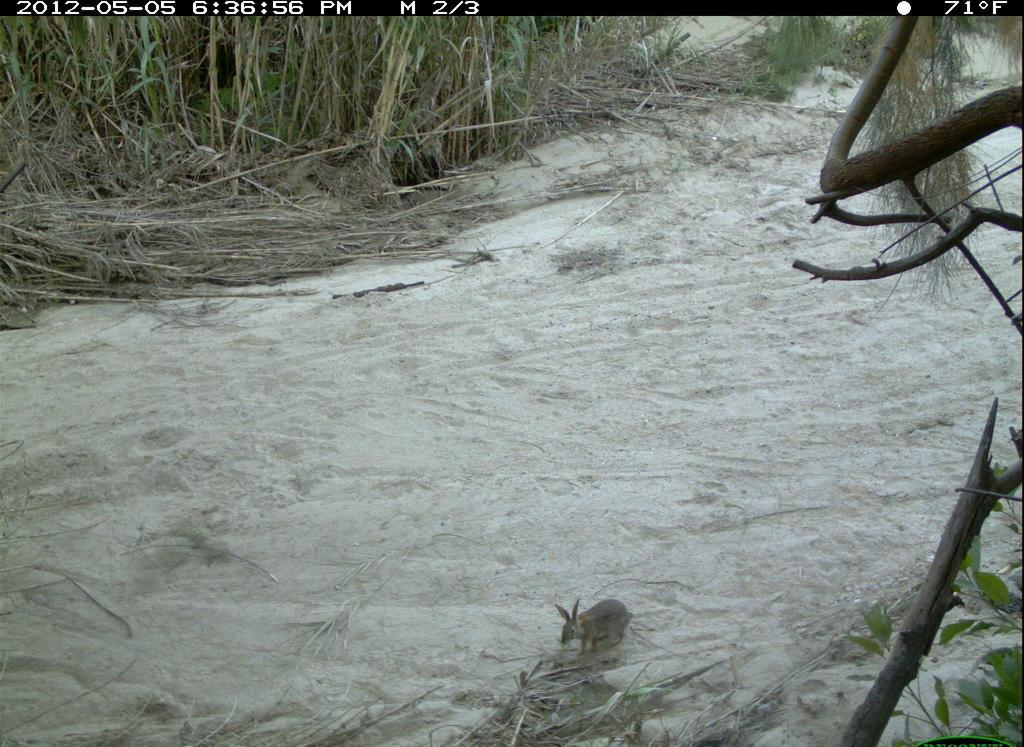rabbit: (551, 582, 642, 664)
